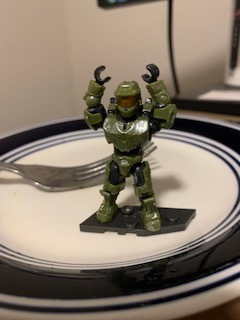chief: (81, 64, 178, 233)
spartan: (79, 62, 176, 231)
up: (77, 60, 177, 154)
